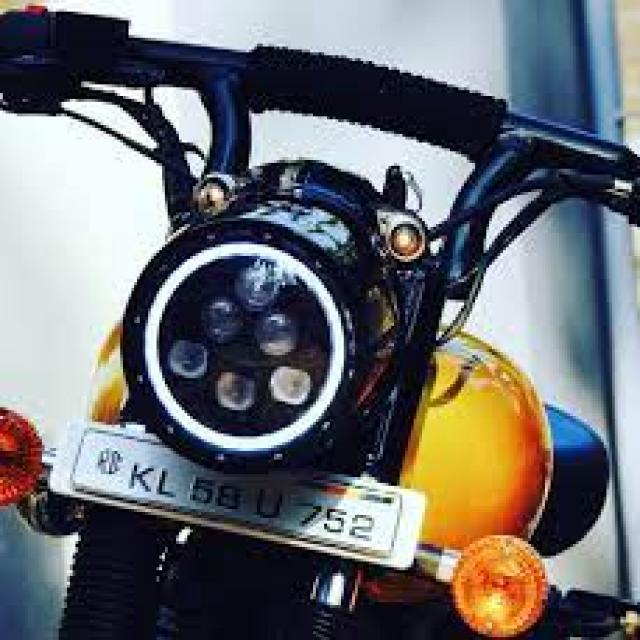license_plate: (47, 416, 425, 570)
